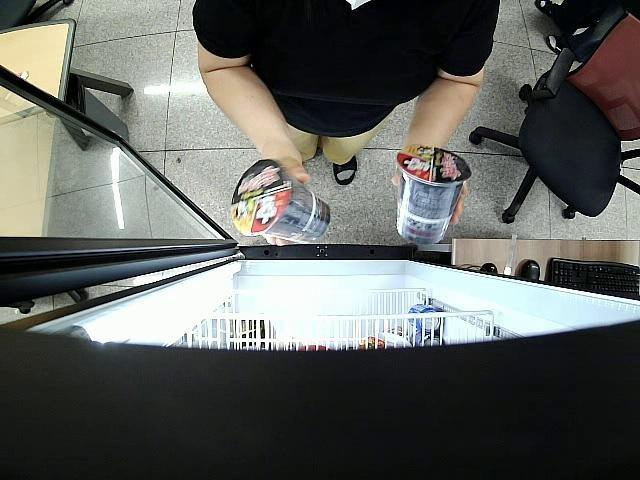08_buldak_S: (232, 160, 331, 241), (398, 143, 472, 244)
